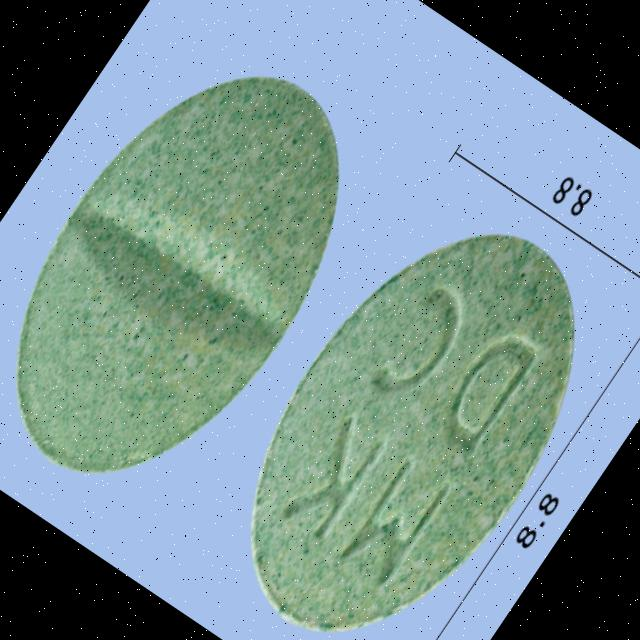Bydoxy: (177, 169, 640, 640), (0, 11, 411, 538)
